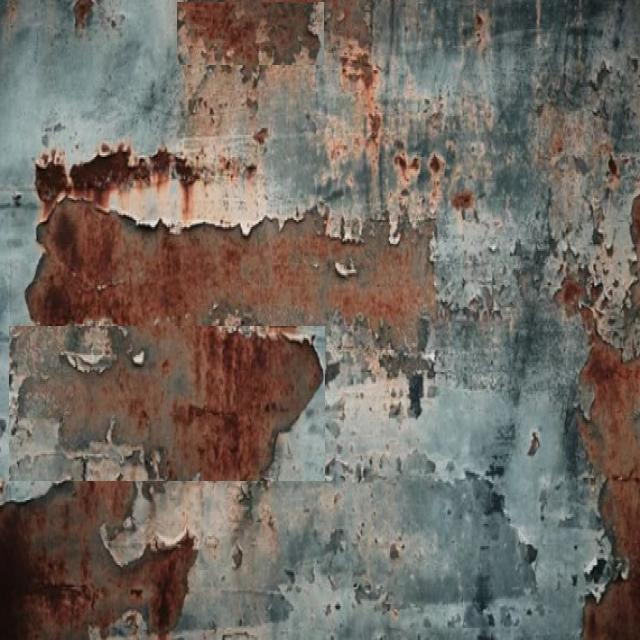Corrosion: (25, 197, 436, 344), (18, 326, 323, 480), (556, 196, 640, 614), (0, 483, 197, 640), (580, 336, 640, 640), (178, 2, 321, 64), (70, 144, 133, 204), (326, 0, 373, 49), (34, 161, 68, 206), (429, 152, 447, 218), (150, 148, 172, 184), (176, 156, 200, 186), (452, 190, 475, 210), (133, 157, 150, 184)
